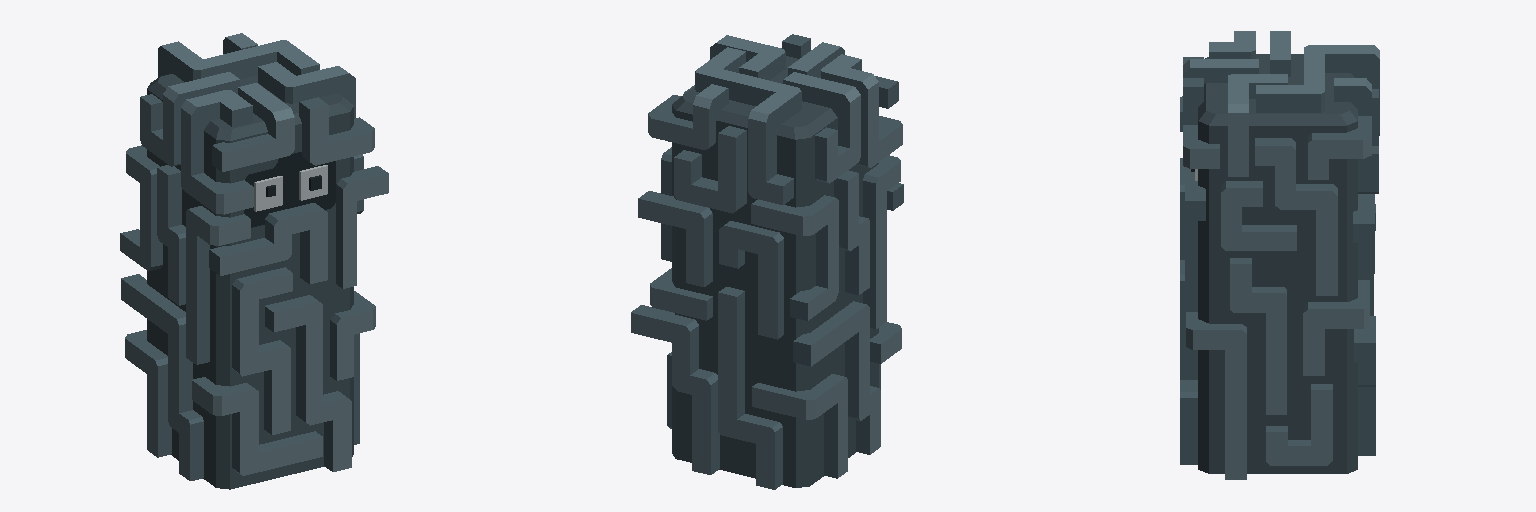
The picture shows the model from 3 angles: view 1: azimuth 30°, elevation 25°; view 2: azimuth 150°, elevation 25°; view 3: azimuth 270°, elevation 25°; orthographic projection.
Parts seen in each view (by area): view 1: bdStatueAbundance; view 2: bdStatueAbundance; view 3: bdStatueAbundance.
Boxes of the visible parts, <box> form: bdStatueAbundance: <box>120,33,388,489</box>; bdStatueAbundance: <box>631,34,903,489</box>; bdStatueAbundance: <box>1180,31,1379,479</box>.
Size of the model in its own units: 2.7 by 5.4 by 2.62.
1 materials, 1 textured.